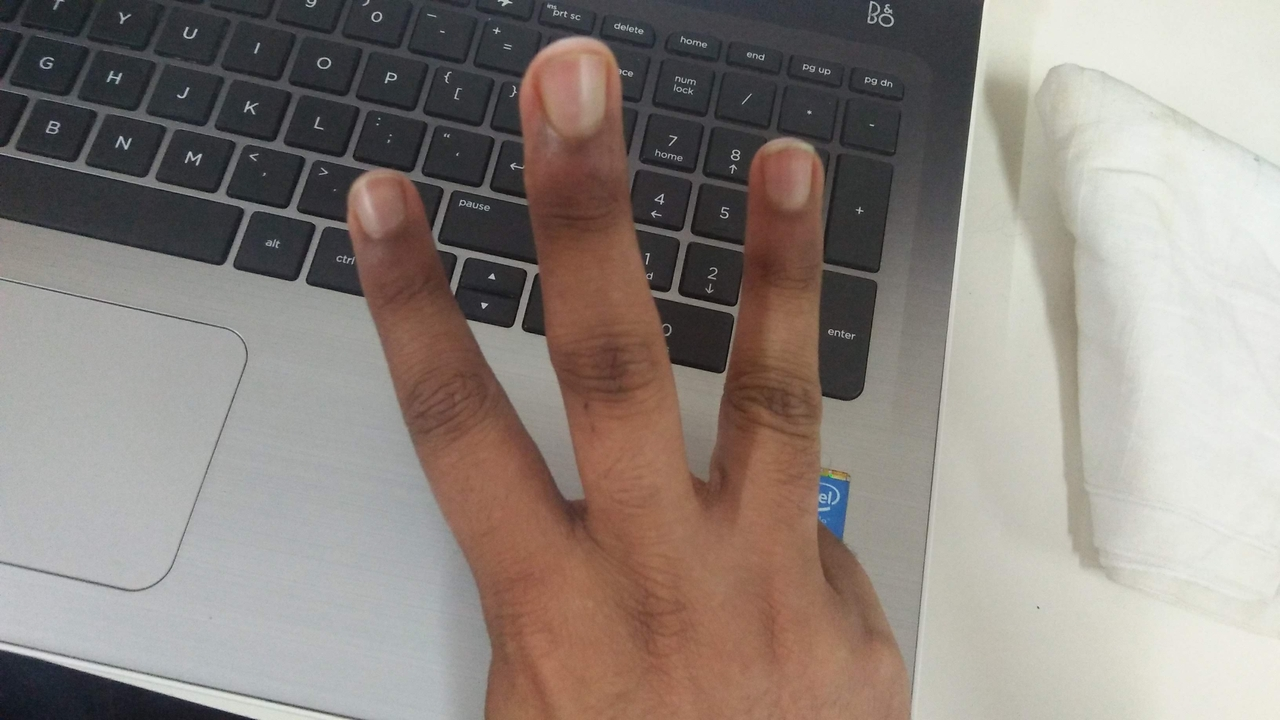fingertip: (510, 30, 644, 124), (733, 131, 832, 210), (334, 172, 416, 242)
